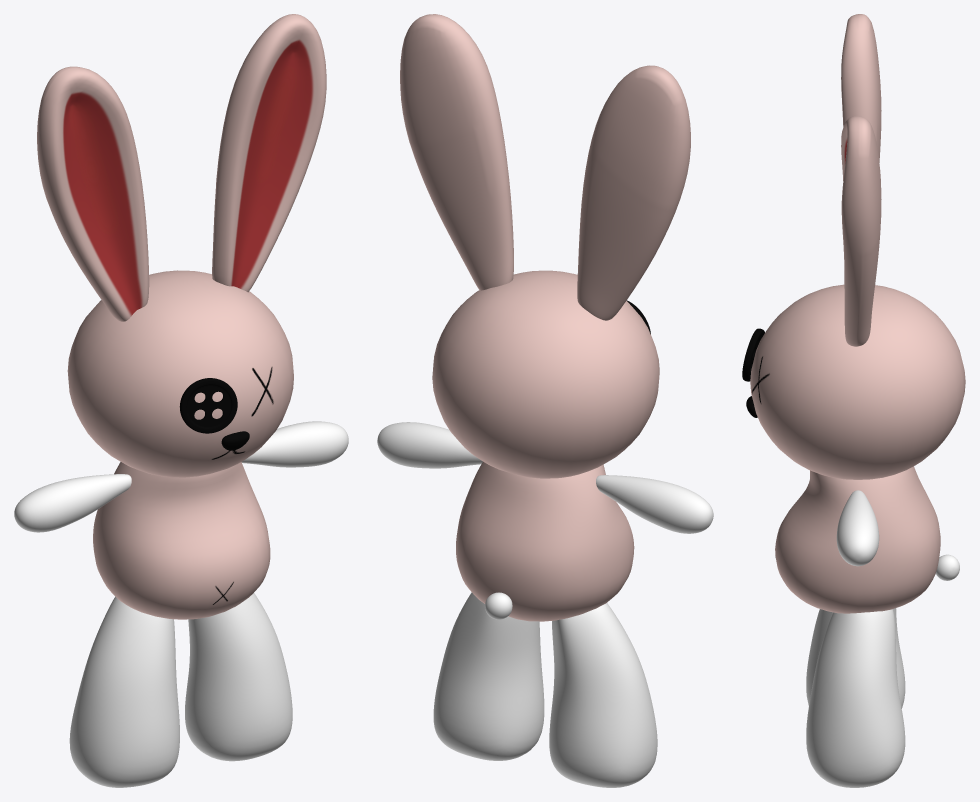
Rendered from coelho_bunny.glb.
The picture shows the model from 3 angles, left to right: view 1: azimuth 30°, elevation 25°; view 2: azimuth 150°, elevation 25°; view 3: azimuth 270°, elevation 25°; orthographic projection. The views are drawn at different scales.
Parts seen in each view (by area): view 1: Cabeca, Corpo, Orelha_E, Orelha_D, Perna_E1, Perna_E, Braco_D, Braco_E, Botao; view 2: Cabeca, Corpo, Orelha_E, Orelha_D, Perna_E1, Perna_E, Braco_D, Braco_E, Rabo; view 3: Cabeca, Corpo, Perna_E, Orelha_E, Orelha_D, Braco_E, Perna_E1, Botao, Rabo.
Part boxes in pixels (x1,y1,x2,y2): Cabeca: (67, 270, 293, 477); Corpo: (93, 462, 270, 619); Orelha_E: (212, 14, 326, 292); Orelha_D: (37, 66, 149, 321); Perna_E1: (69, 596, 179, 787); Perna_E: (185, 593, 292, 761); Braco_D: (14, 474, 131, 532); Braco_E: (241, 421, 348, 467); Botao: (179, 378, 237, 433); Cabeca: (432, 270, 659, 478); Corpo: (456, 461, 634, 621); Orelha_E: (400, 14, 513, 290); Orelha_D: (577, 65, 690, 320); Perna_E1: (549, 603, 657, 787); Perna_E: (433, 592, 544, 760); Braco_D: (596, 475, 713, 533); Braco_E: (377, 422, 482, 468); Rabo: (485, 592, 512, 619); Cabeca: (750, 284, 965, 479); Corpo: (775, 466, 940, 613); Perna_E: (806, 609, 905, 787); Orelha_E: (841, 116, 881, 346); Orelha_D: (841, 14, 881, 162); Braco_E: (836, 490, 879, 566); Perna_E1: (806, 608, 905, 708); Botao: (742, 328, 764, 381); Rabo: (936, 554, 959, 580).
Size of the model in its own units: 2.92 by 6.11 by 1.81.
Materials: 7 (4 with a texture image).
